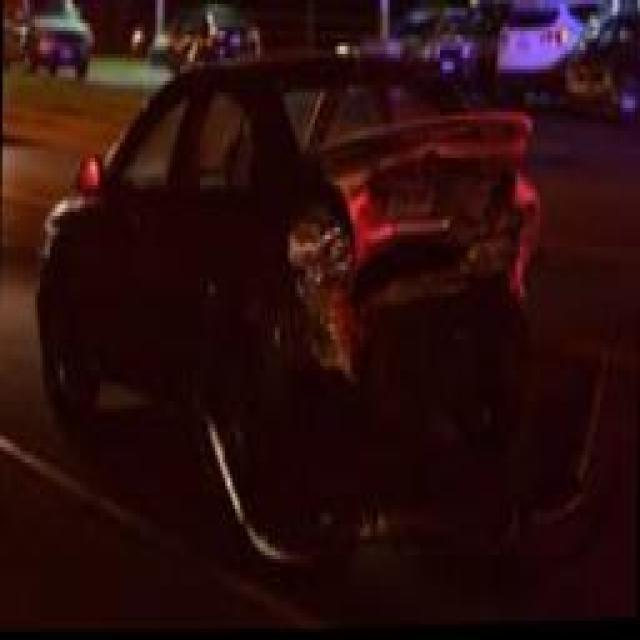Bumper: (250, 272, 523, 421)
Dickey: (294, 116, 532, 288)
Light: (283, 222, 355, 296), (503, 207, 554, 307)
